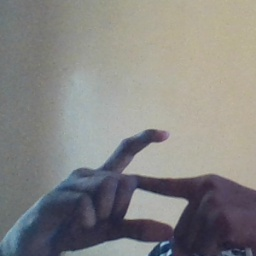E: (92, 127, 198, 247)
